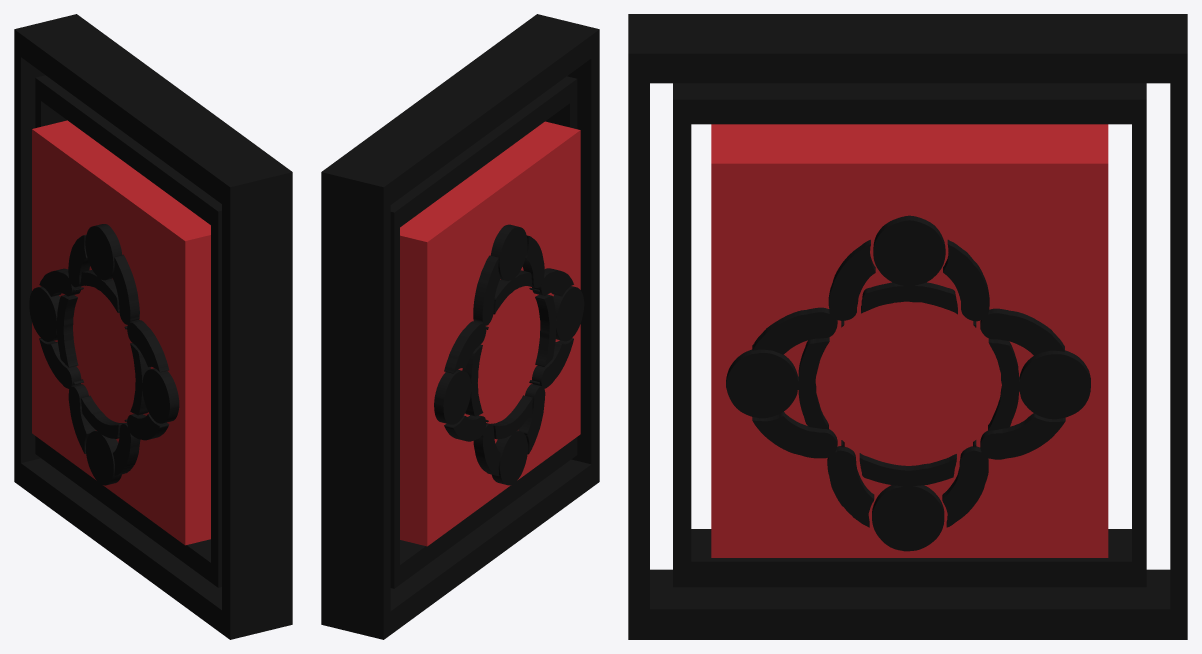
Rendered from strategicplan-model_dark.glb.
3 renders of one model, left to right at view 1: azimuth 30°, elevation 25°; view 2: azimuth 150°, elevation 25°; view 3: azimuth 270°, elevation 25°, orthographic. The views are drawn at different scales.
Parts seen in each view (by area): view 1: Cube005, Cube003, Color_Fill_1001, Cube004; view 2: Cube005, Cube003, Color_Fill_1001, Cube004; view 3: Cube003, Cube005, Cube004, Color_Fill_1002.
Boxes of the visible parts, x1,y1,x2,y2 form: Cube005: (14,14,292,639); Cube003: (32,120,210,545); Color_Fill_1001: (29,224,179,485); Cube004: (35,75,221,587); Cube005: (321,14,599,639); Cube003: (400,121,580,546); Color_Fill_1001: (434,224,584,485); Cube004: (390,76,577,588); Cube003: (711,124,1108,557); Cube005: (628,14,1187,639); Cube004: (673,83,1146,587); Color_Fill_1002: (726,215,1090,551).
Size of the model in its own units: 0.5757 by 2.17 by 1.88.
